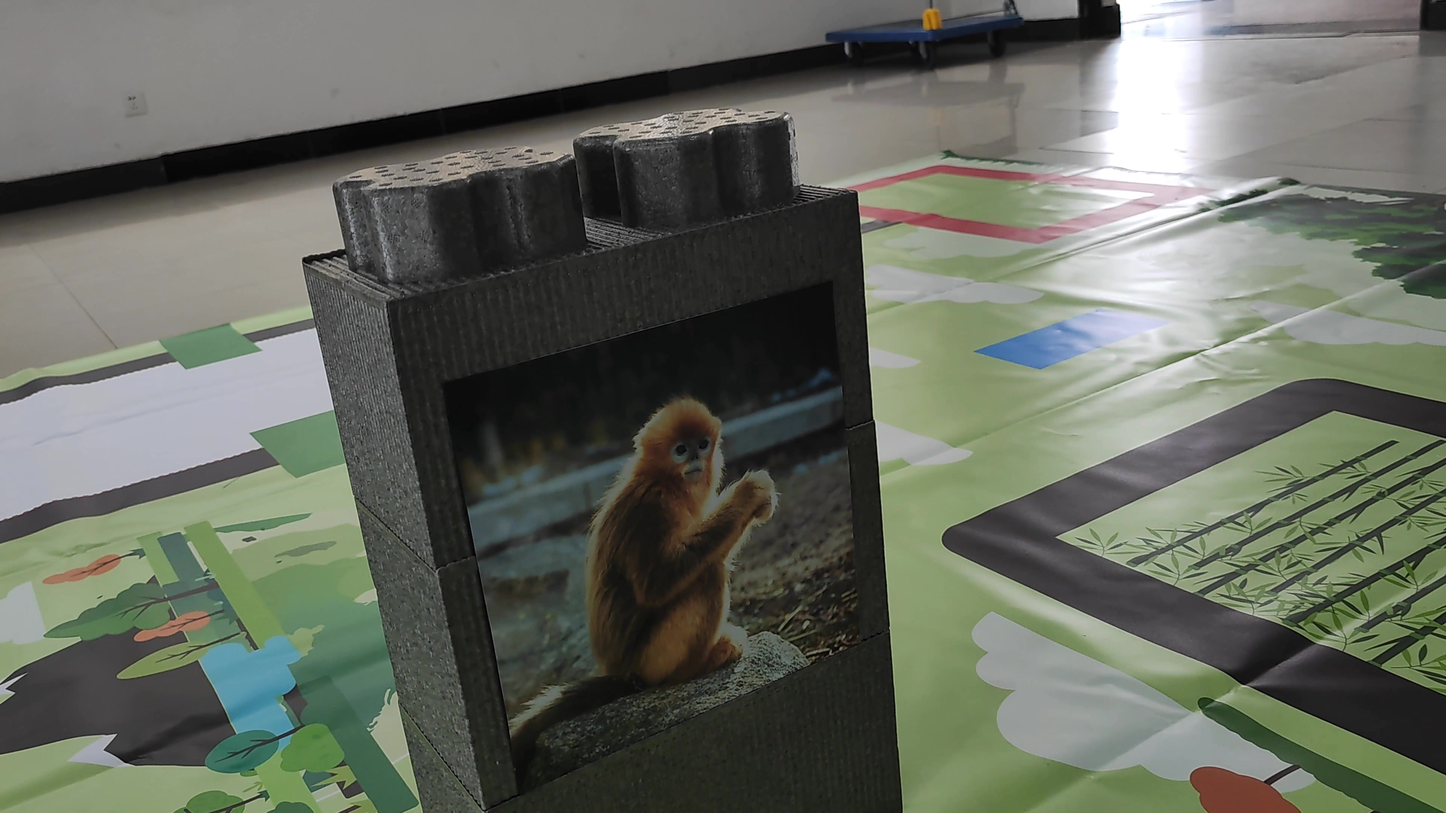monkey: (494, 398, 787, 758)
